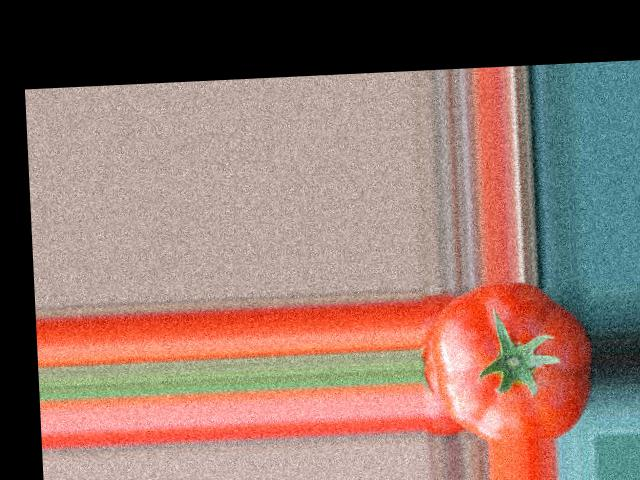tomato: (428, 277, 594, 444)
